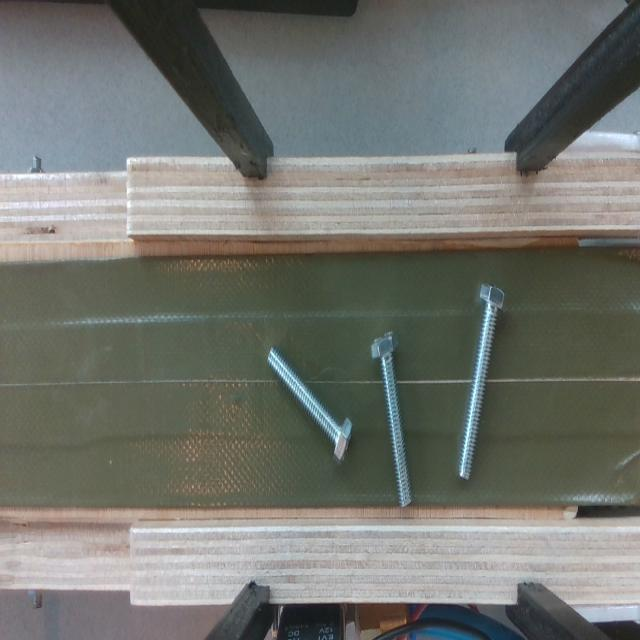Bolt: (268, 347, 351, 463), (459, 283, 504, 477), (371, 331, 411, 507)
